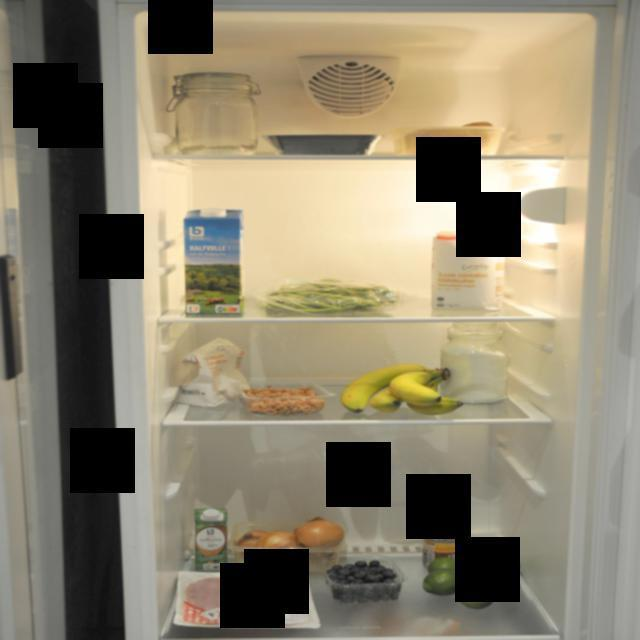banana: (338, 362, 468, 416)
blueberries: (318, 553, 409, 605)
corn: (422, 530, 467, 572)
flour: (164, 67, 267, 159), (168, 336, 248, 410)
green_beans: (258, 280, 414, 316)
ham: (173, 570, 322, 629)
heavy_cream: (194, 508, 228, 570)
lime: (422, 554, 522, 610)
milk: (183, 207, 247, 317)
onion: (226, 516, 346, 573)
potato: (401, 120, 509, 158)
shrimp: (240, 387, 326, 416)
sugar: (430, 229, 504, 311), (439, 321, 511, 405)
